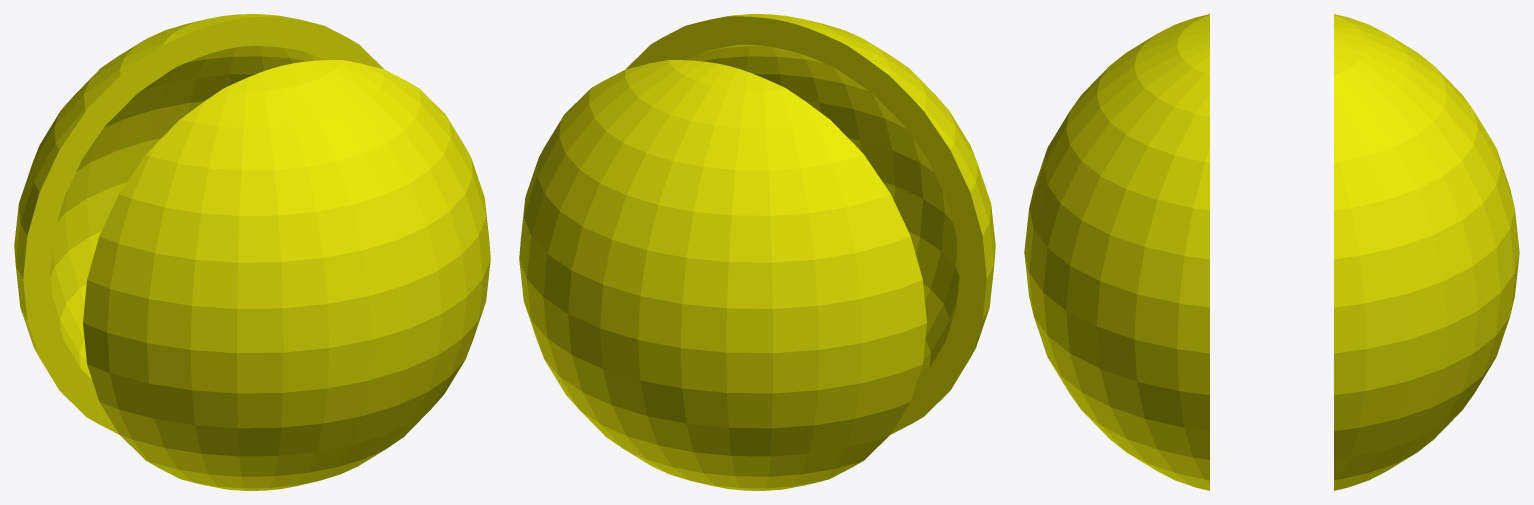
Rendered from Turret_P1_Yellow.fbx.
The picture shows the model from 3 angles, left to right: view 1: azimuth 30°, elevation 25°; view 2: azimuth 150°, elevation 25°; view 3: azimuth 270°, elevation 25°; orthographic projection. The views are drawn at different scales.
Visible parts, largest first — view 1: Sphere; view 2: Sphere; view 3: Sphere.
Boxes of the visible parts, <box> form: Sphere: <box>14,14,490,490</box>; Sphere: <box>519,14,995,490</box>; Sphere: <box>1024,14,1519,490</box>.
Bounding box in the file's own units: 193 × 193 × 200.
